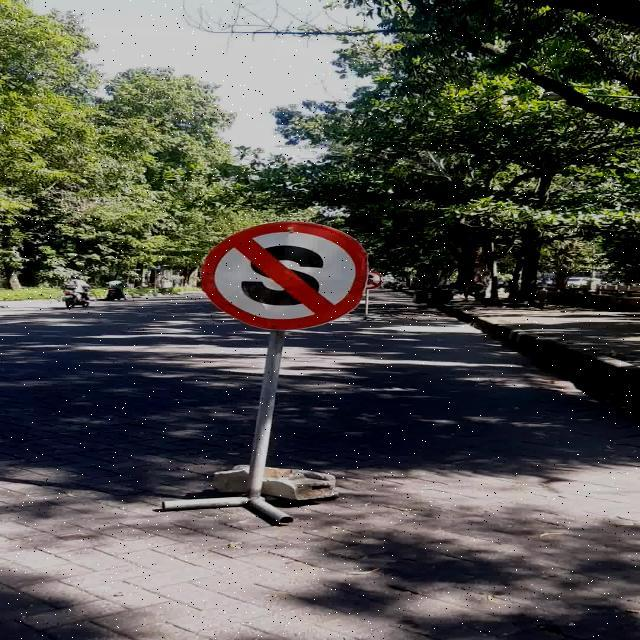Dilarang Berhenti: (201, 221, 368, 330)
